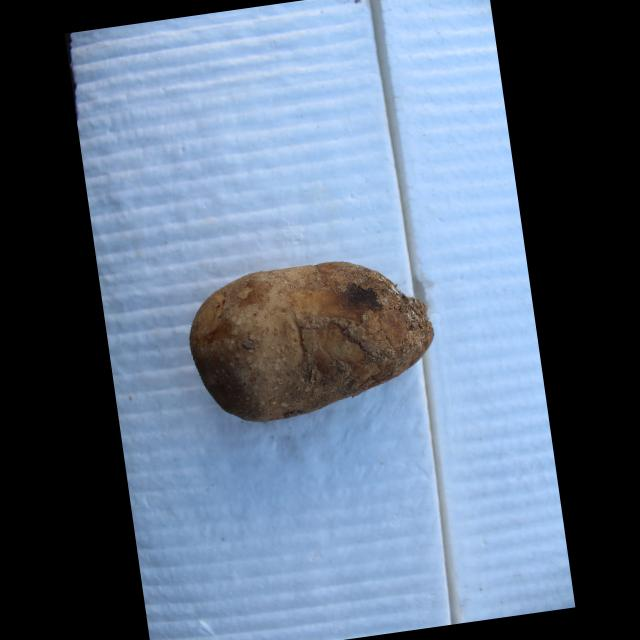Diseased-fungal potato: (178, 242, 446, 434)
